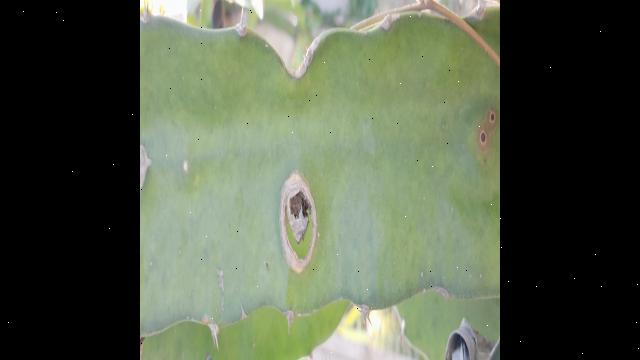stemcanker: (476, 105, 499, 161)
